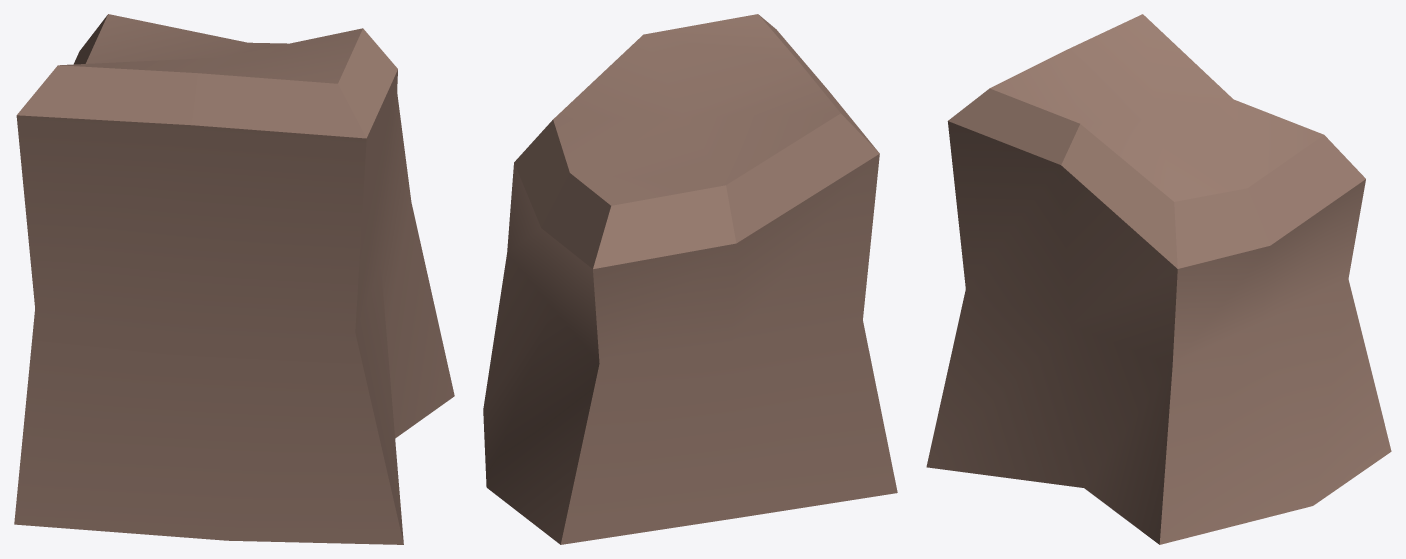
Rendered from rock2_big.fbx.
The picture shows the model from 3 angles, left to right: view 1: azimuth 30°, elevation 25°; view 2: azimuth 150°, elevation 25°; view 3: azimuth 270°, elevation 25°; orthographic projection. The views are drawn at different scales.
Parts seen in each view (by area): view 1: rock2_big; view 2: rock2_big; view 3: rock2_big.
Part boxes in pixels (box(x1,y1,x2,y2)): rock2_big: box(14, 14, 454, 544); rock2_big: box(483, 14, 897, 544); rock2_big: box(926, 14, 1391, 544).
Bounding box in the file's own units: 2.97 × 2.7 × 3.1.
